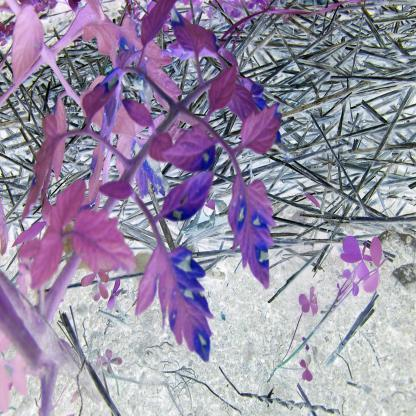Tomato Early blight leaf: (143, 237, 218, 357), (224, 163, 277, 288), (155, 170, 214, 227), (160, 125, 227, 171)
